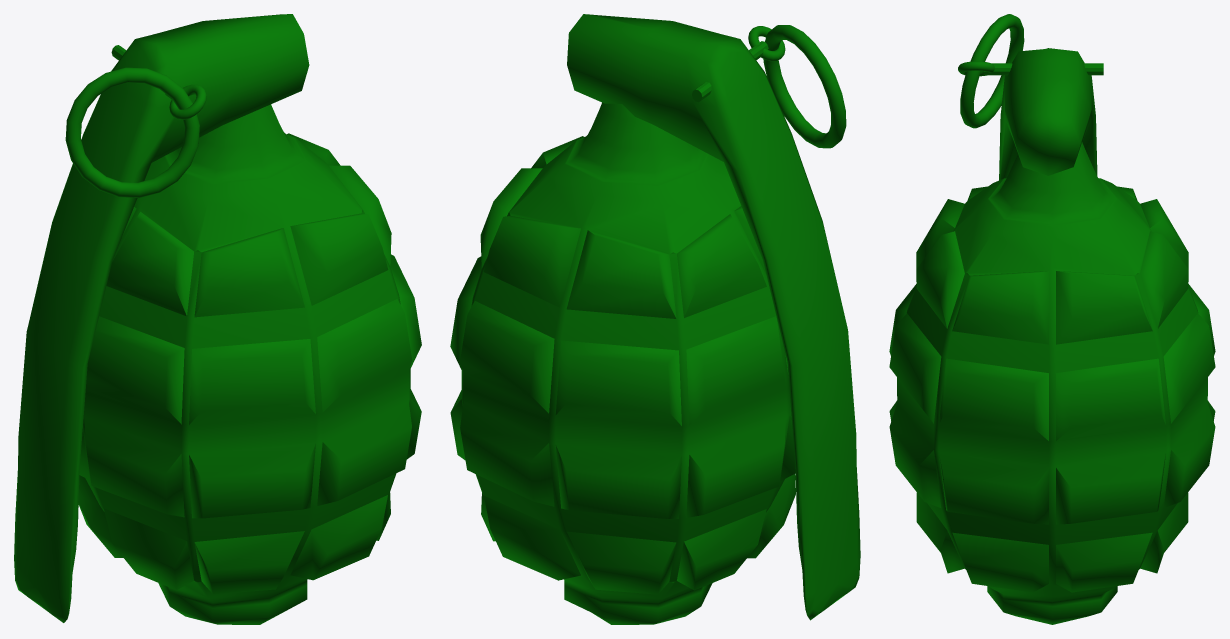
The model's file is grenade.fbx.
3 views of the same model, side by side, from view 1: azimuth 30°, elevation 25°; view 2: azimuth 150°, elevation 25°; view 3: azimuth 270°, elevation 25° (orthographic). The views are drawn at different scales.
Visible parts, largest first — view 1: polySurface2; view 2: polySurface2; view 3: polySurface2.
Boxes of the visible parts, x1,y1,x2,y2 form: polySurface2: [14, 14, 421, 624]; polySurface2: [450, 14, 860, 624]; polySurface2: [889, 14, 1215, 624].
Size of the model in its own units: 103 by 164 by 90.8.
